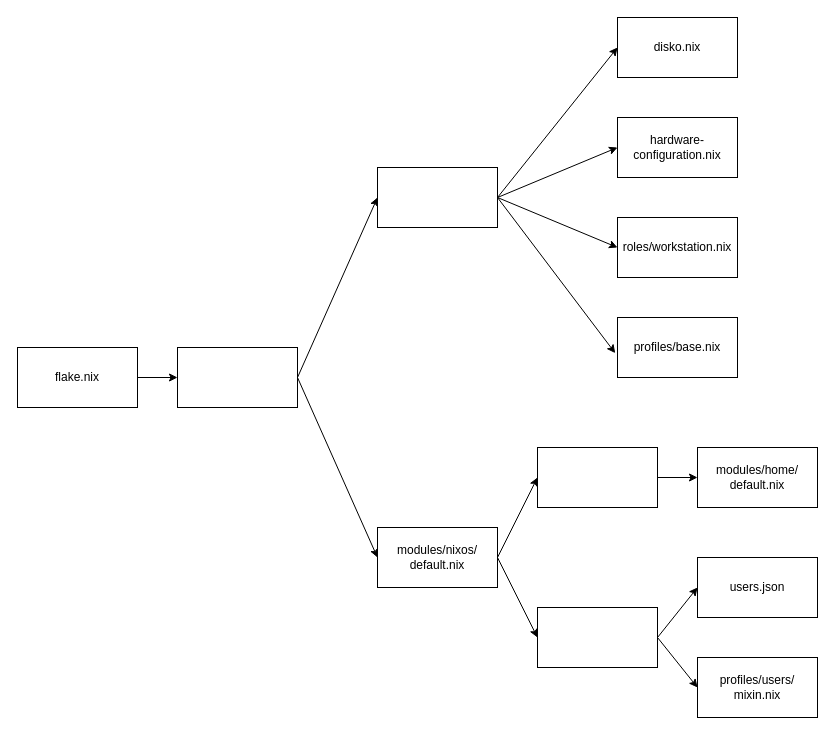
Some shapes in this 835 by 735 pixel diagram are drawn without their labels. Here are the shapes that lost their labels. From the top down, the centre of each, then its label:
(437,197): hosts/hostname/ default.nix
(237,377): lib/mkFlake.nix
(597,477): features/home-manager.nix
(597,637): users/dynamic-users/nix
